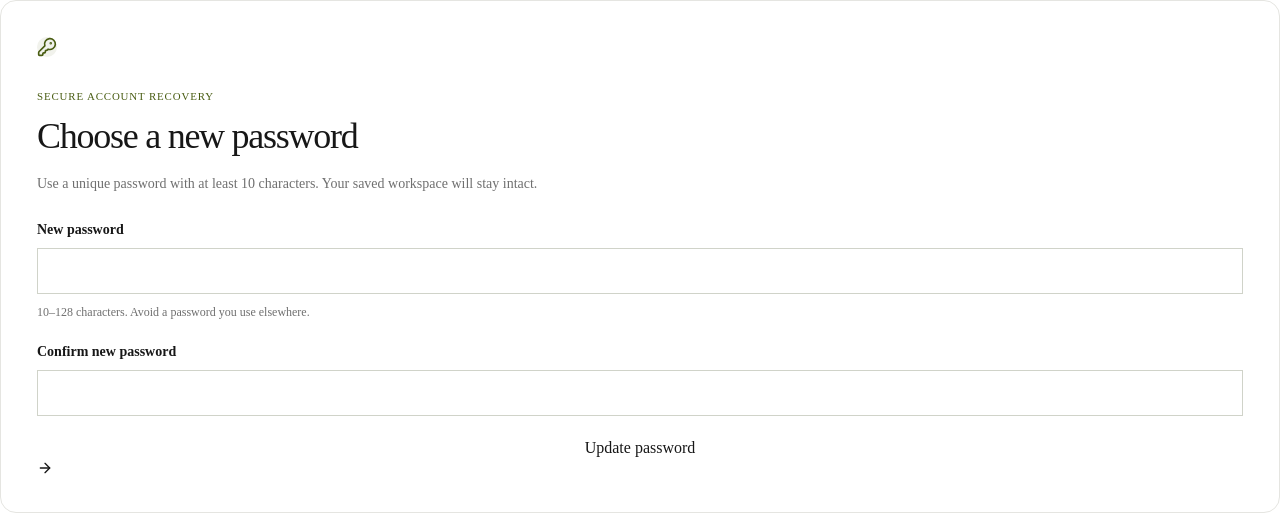
Test: human email-link password reset › retains the finite invalid outcome across an owner remount without retaining proof
Later steps or results of the test are not shown.
Type "human-new-password-123" into the password field labelled "New password".
click(640, 271); type("human-new-password-123")  # box [37,248,1243,294]
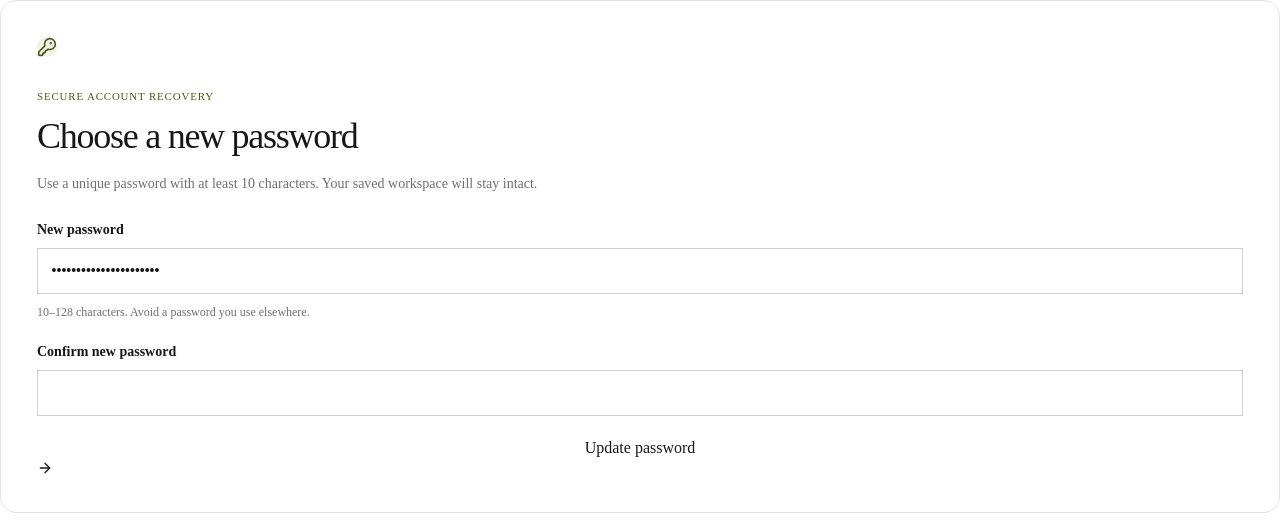
Type "human-new-password-123" into the password field labelled "Confirm new password".
click(640, 393); type("human-new-password-123")  # box [37,370,1243,416]
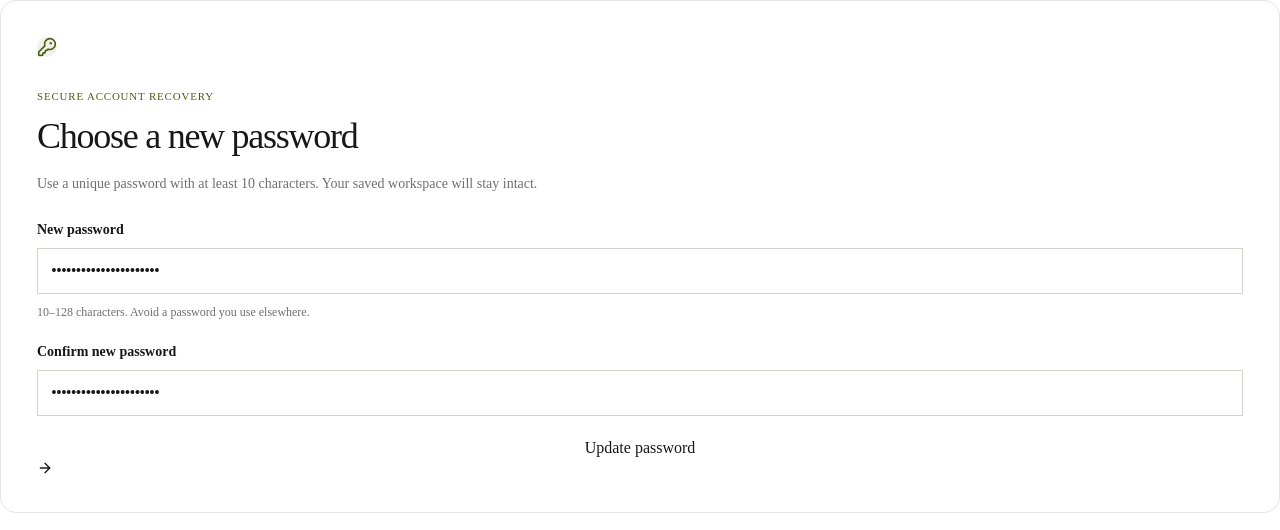
Click the button "Update password".
click(640, 456)  # box [37,436,1243,476]
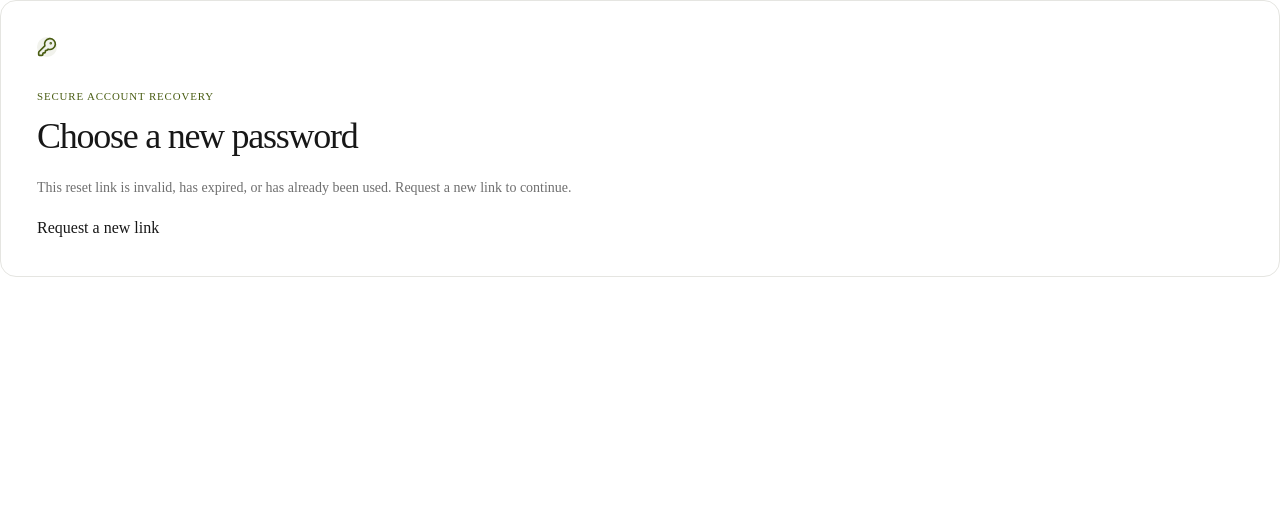
Expected: the link "Request a new link" is shown, [37,219,159,236]
